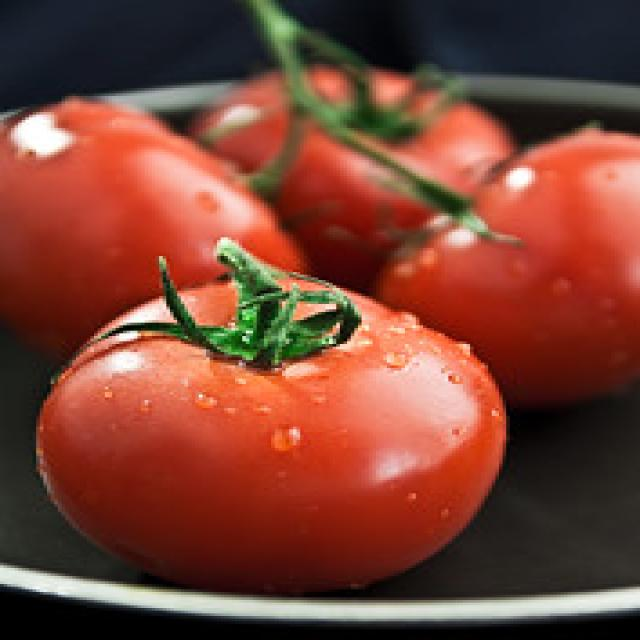Tomato: (33, 269, 515, 606), (0, 75, 315, 328), (374, 125, 640, 399)
